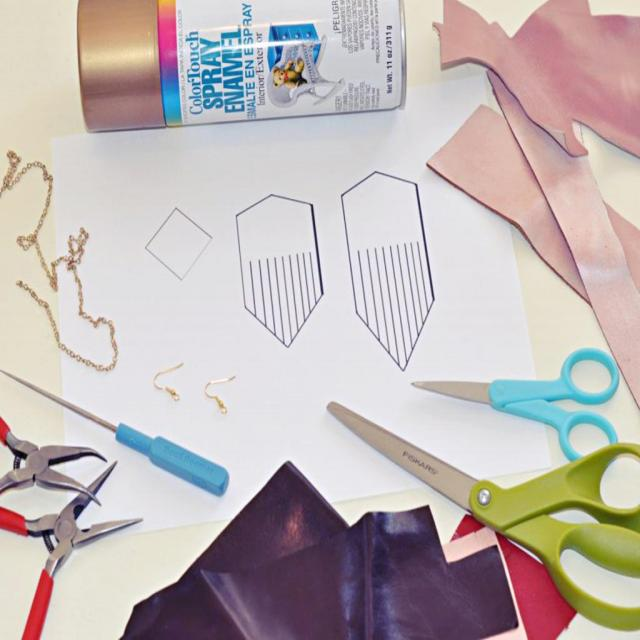scissor: (327, 399, 639, 632), (411, 347, 623, 463)
